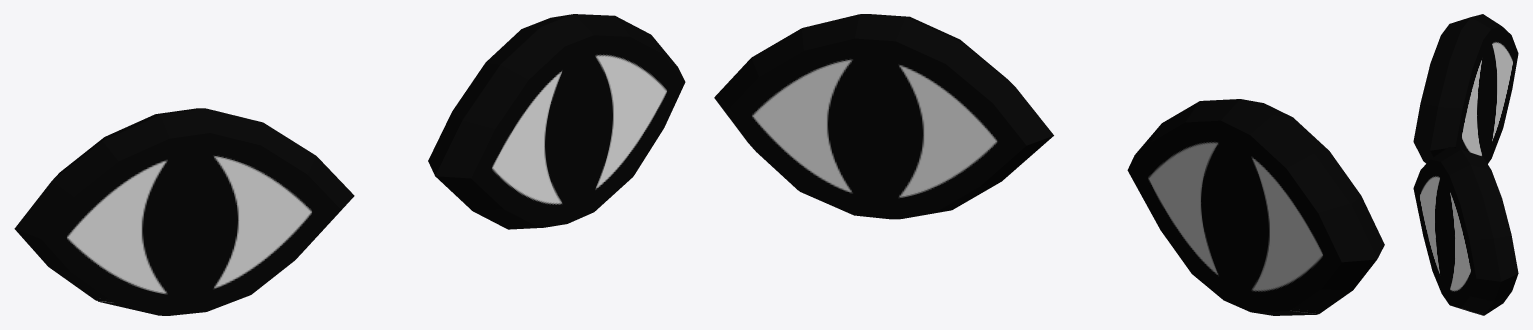
The model's file is eyes_06.fbx.
3 renders of one model, left to right at view 1: azimuth 30°, elevation 25°; view 2: azimuth 150°, elevation 25°; view 3: azimuth 270°, elevation 25°, orthographic. The views are drawn at different scales.
Visible parts, largest first — view 1: Eyes_06; view 2: Eyes_06; view 3: Eyes_06.
Part boxes in pixels (left/top/right/bottom): Eyes_06: left=14, top=14, right=685, bottom=315; Eyes_06: left=714, top=14, right=1384, bottom=315; Eyes_06: left=1413, top=14, right=1518, bottom=315.
Bounding box in the file's own units: 88.17 × 25.7 × 16.52.
